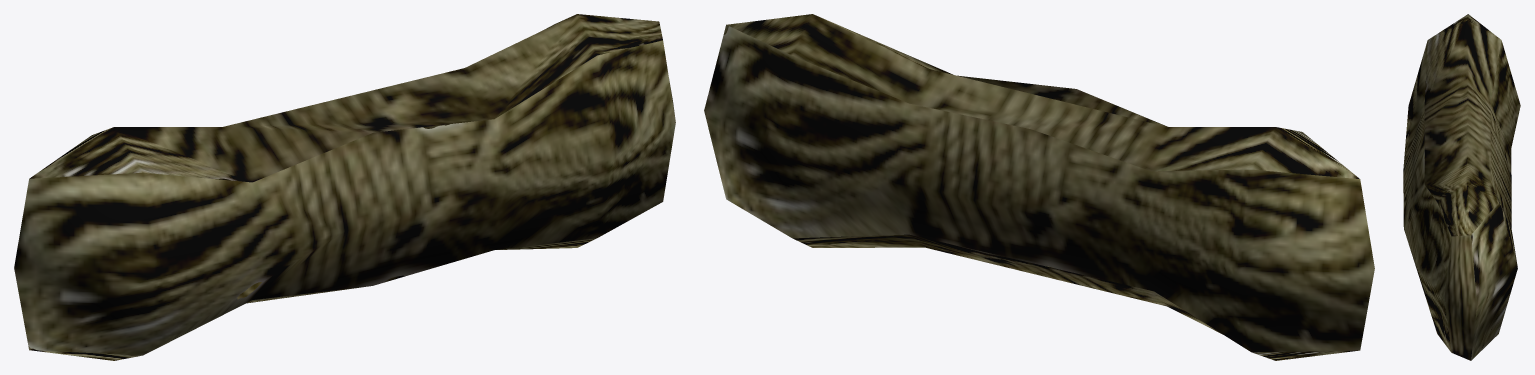
Rendered from rope.fbx.
3 renders of one model, left to right at view 1: azimuth 30°, elevation 25°; view 2: azimuth 150°, elevation 25°; view 3: azimuth 270°, elevation 25°, orthographic. The views are drawn at different scales.
Parts seen in each view (by area): view 1: Cube; view 2: Cube; view 3: Cube.
Part boxes in pixels (<box>): Cube: <box>14,14,675,360</box>; Cube: <box>704,14,1374,360</box>; Cube: <box>1403,14,1520,360</box>.
Size of the model in its own units: 31.62 by 10.64 by 6.71.
Materials: 1 (1 with a texture image).
